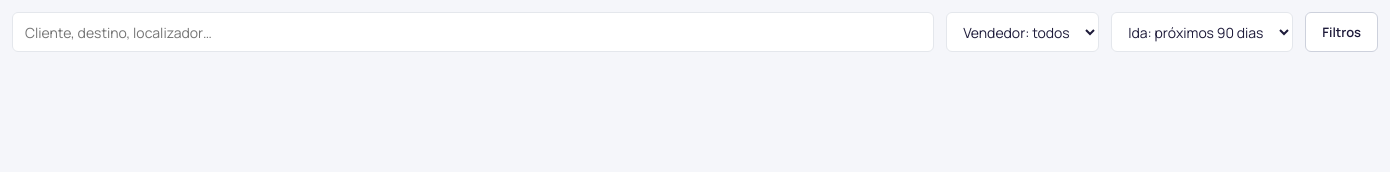
Limpar reseta o campo de busca visível mesmo depois de digitar
In the field named "Buscar viagens": (473, 32) [12,12,934,52], type "lis"
Wait 300 ms
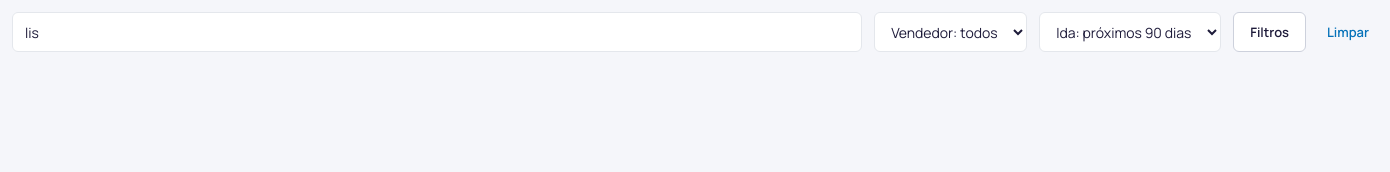
Click the button "Limpar": (1348, 32) [1318,12,1378,52]
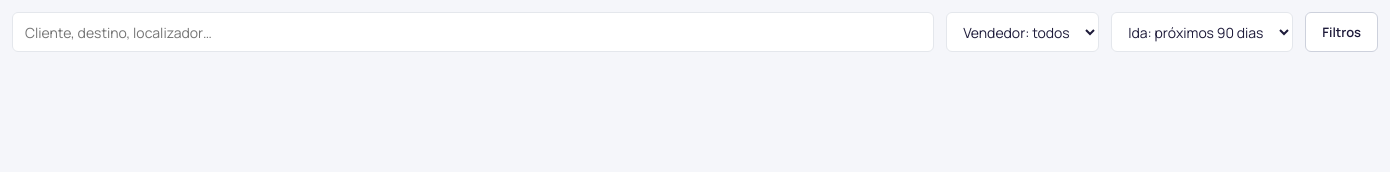
Now the field named "Buscar viagens" is empty, box [12,12,934,52]
